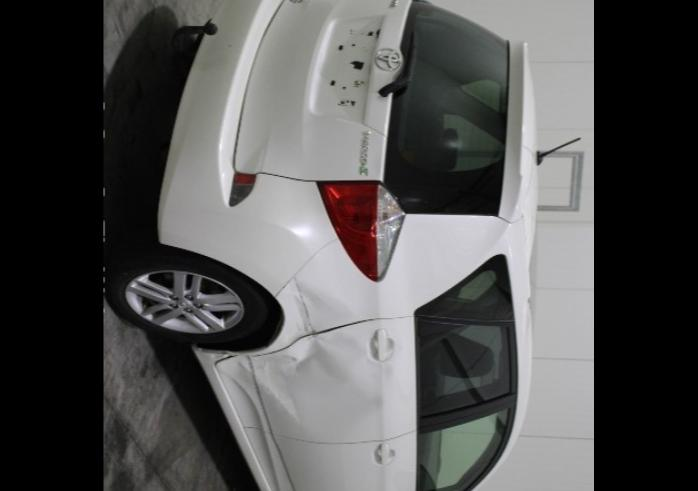Dent: (254, 326, 382, 428), (298, 278, 354, 332), (282, 292, 310, 344), (198, 350, 245, 360), (232, 356, 248, 372)
Missing part: (330, 26, 380, 116)
Scratch: (294, 278, 314, 334)
